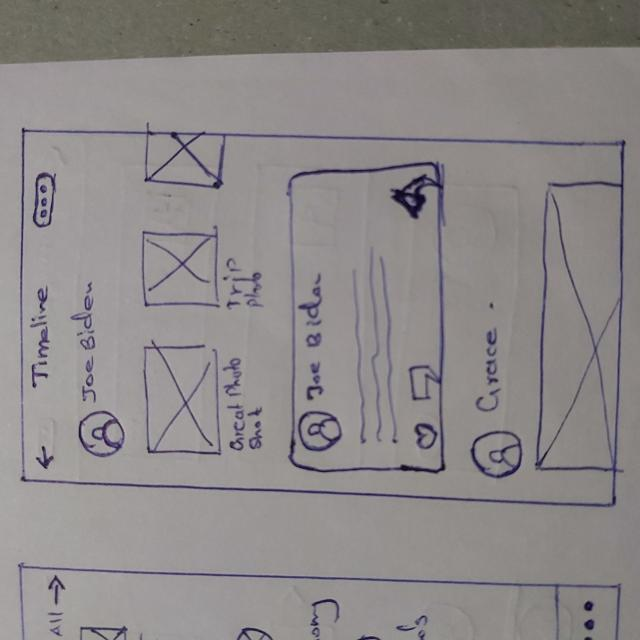ActionButton: (18, 168, 78, 236)
AppBar: (18, 127, 73, 484)
BackButton: (32, 445, 58, 473)
CardView: (285, 162, 450, 475)
HorizontalListView: (133, 129, 285, 489)
Icon: (77, 409, 126, 460), (472, 430, 522, 476), (393, 172, 436, 223), (298, 411, 344, 451), (34, 172, 55, 226), (409, 362, 433, 402), (413, 419, 440, 452)
Image: (540, 183, 616, 472), (142, 344, 217, 454), (141, 226, 220, 309), (146, 135, 224, 189)
ListView: (133, 130, 281, 484)
MainLayout: (16, 122, 623, 510)
MultiLineText: (351, 244, 400, 448)
ScrollView: (138, 129, 620, 483)
TextView: (302, 274, 326, 405), (76, 280, 100, 405), (220, 356, 246, 459), (28, 285, 52, 389), (482, 329, 504, 419), (245, 404, 269, 459), (226, 255, 244, 313), (247, 269, 265, 313)
